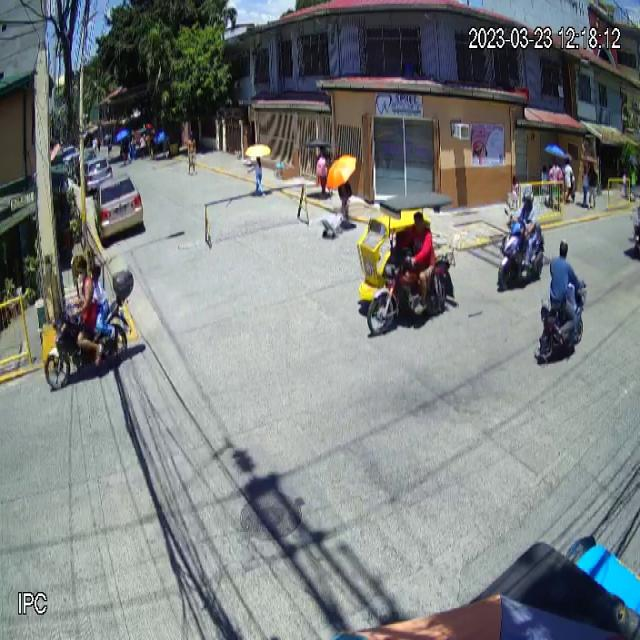Motorcycle: (42, 268, 134, 392), (497, 207, 545, 293)
Tricycle: (358, 192, 456, 337)
